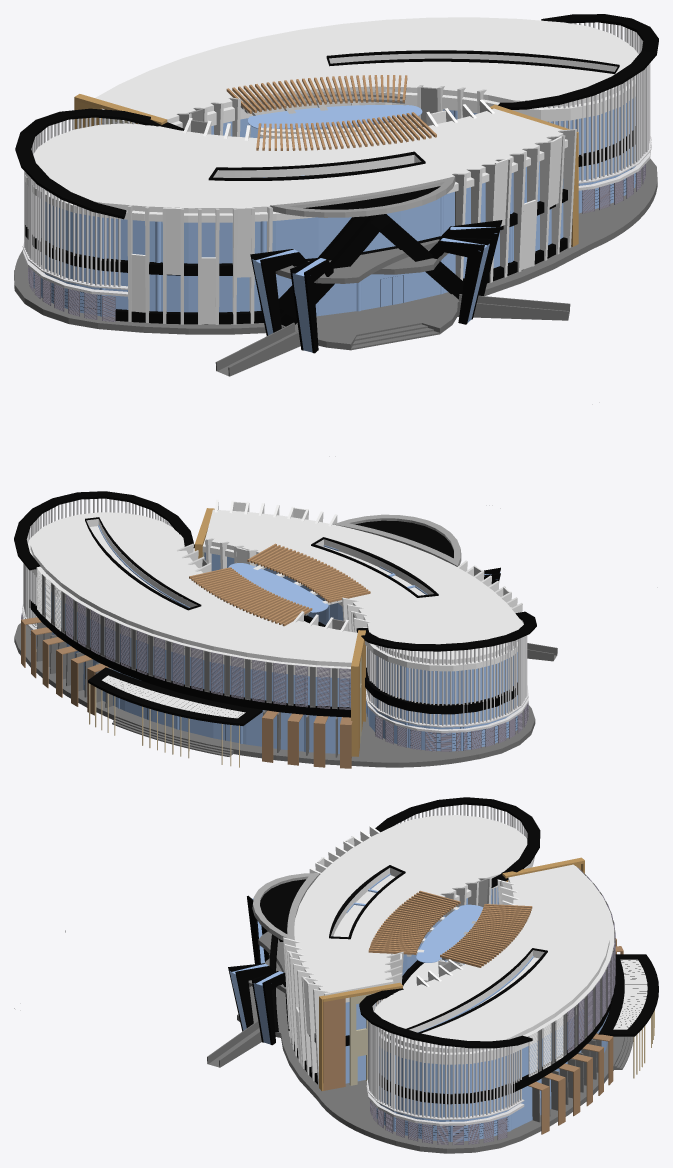
The model's file is Enhance_Model_Old.glb.
3 views of the same model, one above another, from view 1: azimuth 30°, elevation 25°; view 2: azimuth 150°, elevation 25°; view 3: azimuth 270°, elevation 25° (orthographic). The views are drawn at different scales.
Visible parts, largest first — view 1: Group423, Group943, Group627, Group968, Group672, Group1138, Group1060, Group94, Group2309, Group493, Group272, Group381 (+36 smaller); view 2: Group423, Group968, Group945, Group493, Group135, Group623, Group943, Group1138, Group627, Group94, Group1060, Group2309 (+11 smaller); view 3: Group423, Group968, Group135, Group945, Group623, Group1138, Group1060, Group493, Group2273, Group94, Group2309, Group2367 (+12 smaller).
Part boxes in pixels (x1,y1,x2,y2): Group423: [25, 17, 638, 222]; Group943: [41, 161, 563, 263]; Group627: [33, 203, 563, 316]; Group968: [14, 158, 657, 334]; Group672: [281, 292, 458, 350]; Group1138: [270, 176, 455, 217]; Group1060: [15, 108, 184, 219]; Group94: [498, 14, 658, 109]; Group2309: [248, 105, 422, 128]; Group493: [25, 126, 635, 275]; Group272: [326, 50, 619, 73]; Group381: [457, 294, 570, 320]; Group423: [28, 509, 523, 678]; Group968: [14, 621, 535, 767]; Group945: [45, 587, 348, 706]; Group493: [29, 600, 517, 717]; Group135: [88, 667, 262, 725]; Group623: [30, 617, 341, 753]; Group943: [211, 545, 517, 704]; Group1138: [333, 514, 461, 566]; Group627: [366, 690, 518, 751]; Group94: [14, 491, 194, 570]; Group1060: [356, 611, 536, 651]; Group2309: [228, 563, 328, 612]; Group423: [294, 815, 614, 1064]; Group968: [281, 959, 624, 1153]; Group135: [598, 954, 658, 1036]; Group945: [379, 1009, 591, 1093]; Group623: [376, 1012, 608, 1141]; Group1138: [252, 873, 320, 940]; Group1060: [375, 797, 540, 887]; Group493: [309, 960, 614, 1104]; Group2273: [323, 998, 382, 1090]; Group94: [359, 988, 532, 1048]; Group2309: [416, 904, 483, 962]; Group2367: [349, 993, 372, 1085].
Size of what is drawn, in the model's own units: 63.78 by 14.21 by 70.54.
